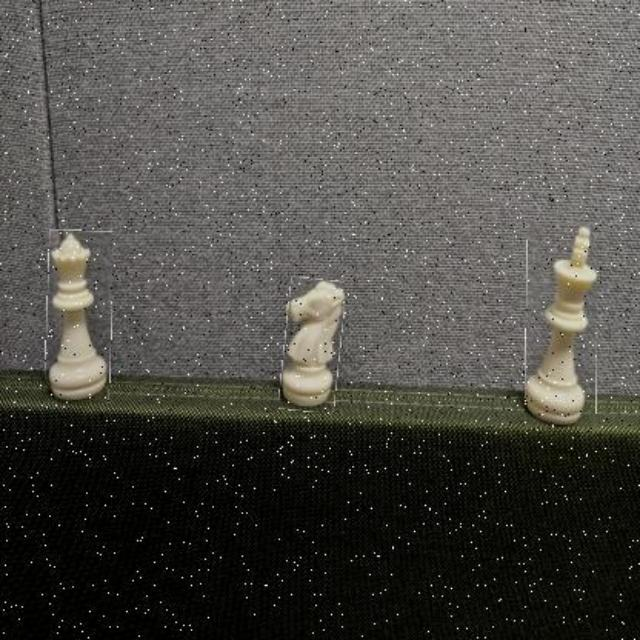white-king: (525, 223, 598, 429)
white-knight: (281, 278, 342, 411)
white-queen: (45, 230, 112, 405)
